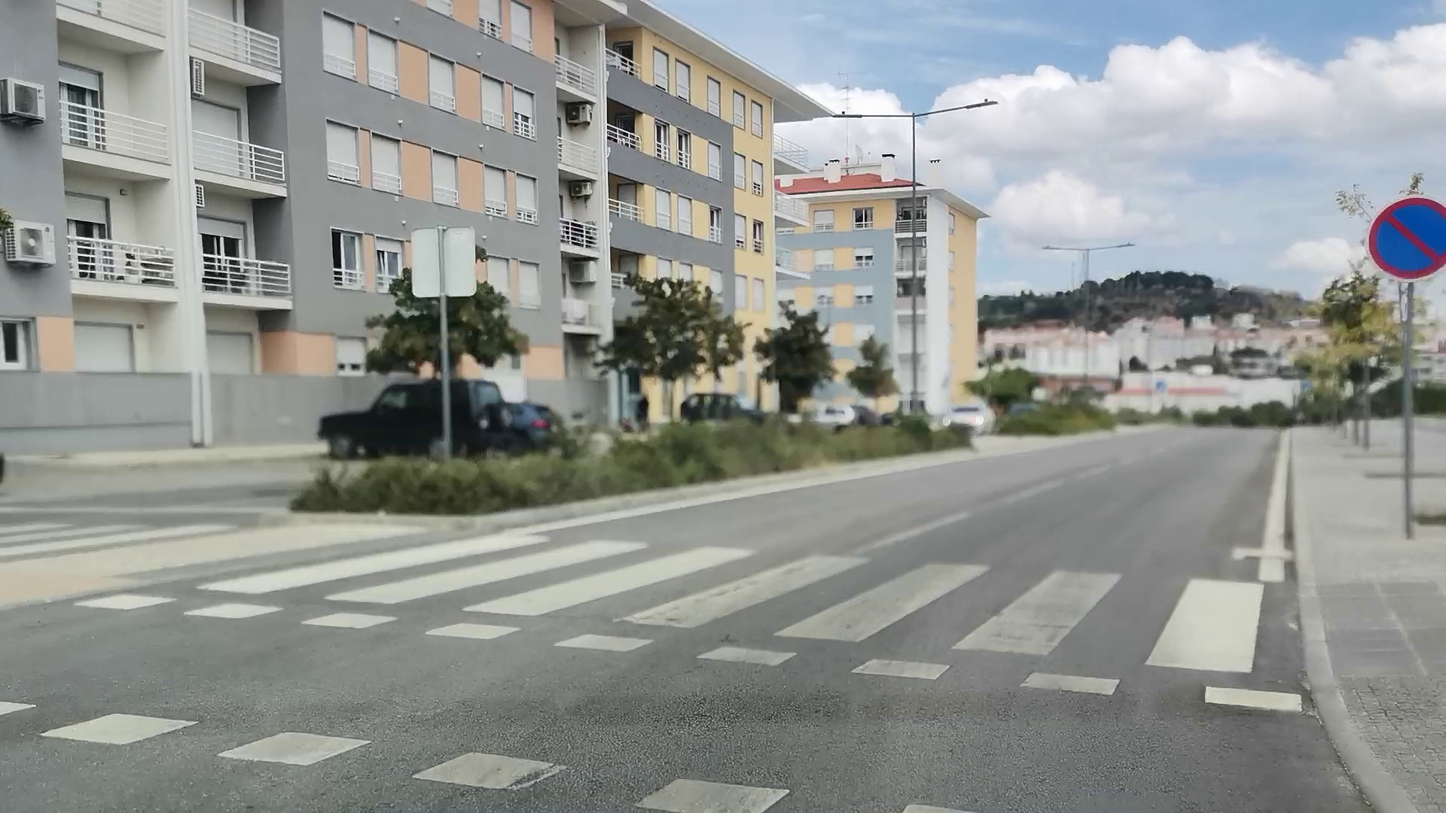Stairs: (198, 527, 1290, 676)
